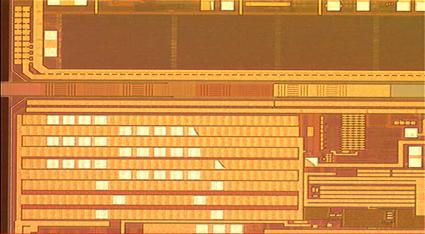COATING BAD: (193, 109, 251, 175)
